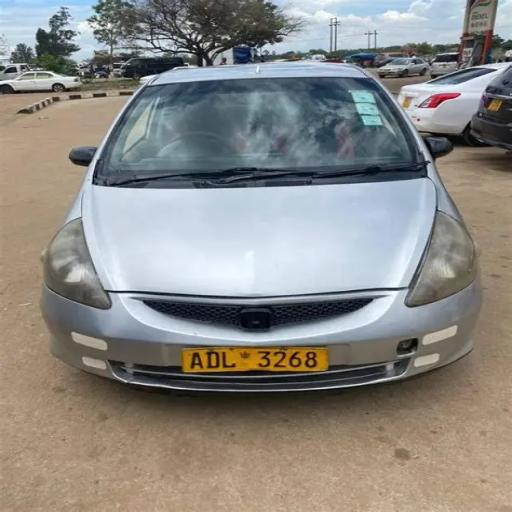number-plates: (186, 346, 331, 374)
